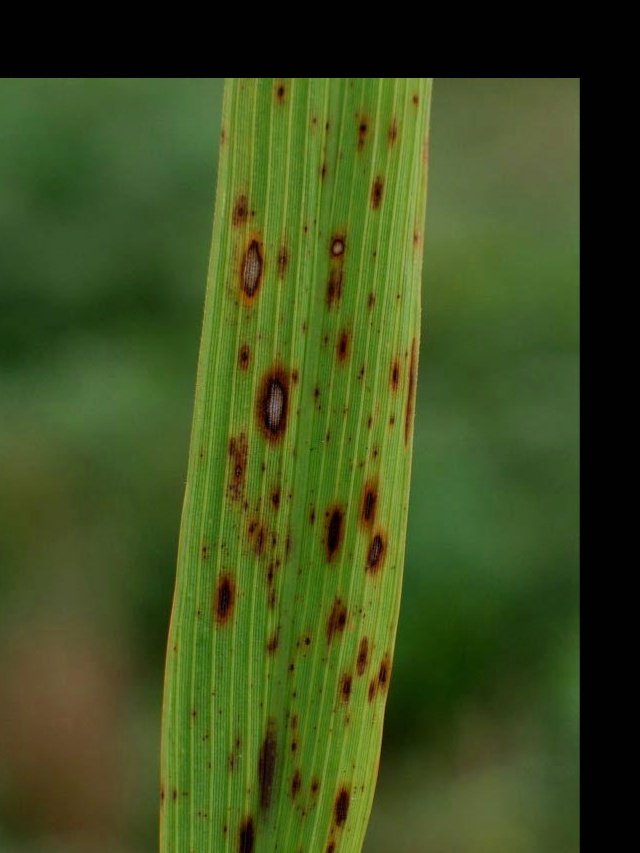Bacterial_Leaf_Blight: (242, 714, 291, 828), (258, 358, 298, 436), (313, 488, 351, 560), (236, 232, 270, 307), (207, 561, 241, 631), (320, 584, 360, 643), (329, 771, 367, 832), (355, 469, 386, 531), (326, 319, 366, 367), (223, 182, 260, 225), (365, 524, 391, 576), (226, 820, 266, 853), (343, 107, 367, 160), (351, 627, 372, 677), (403, 331, 412, 447), (380, 350, 401, 399), (319, 232, 354, 261), (375, 646, 393, 700), (333, 667, 359, 703), (267, 79, 293, 107), (366, 172, 385, 210), (384, 115, 405, 147), (413, 91, 421, 108)
